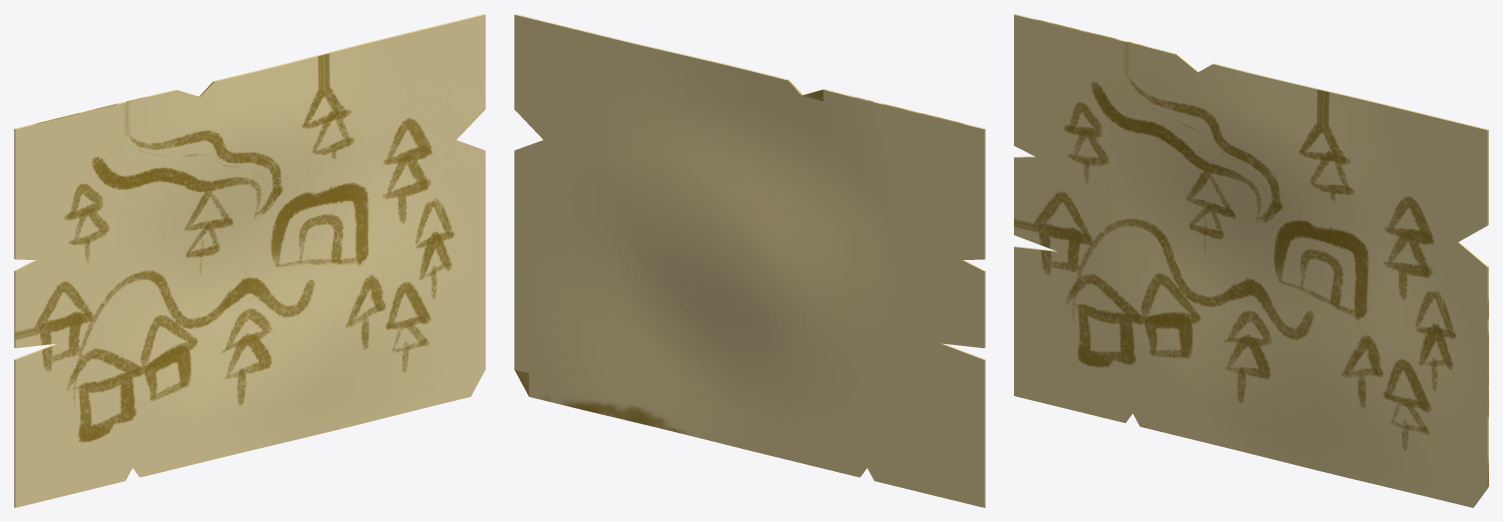
File: Map.fbx
The picture shows the model from 3 angles, left to right: view 1: azimuth 30°, elevation 25°; view 2: azimuth 150°, elevation 25°; view 3: azimuth 330°, elevation 25°; orthographic projection.
Visible parts, largest first — view 1: Plane; view 2: Plane; view 3: Plane.
Boxes of the visible parts, box(x1,y1,x2,y2) form: Plane: box(14, 14, 485, 507); Plane: box(514, 14, 985, 507); Plane: box(1014, 14, 1488, 507).
Bounding box in the file's own units: 260 × 5.73 × 200.
